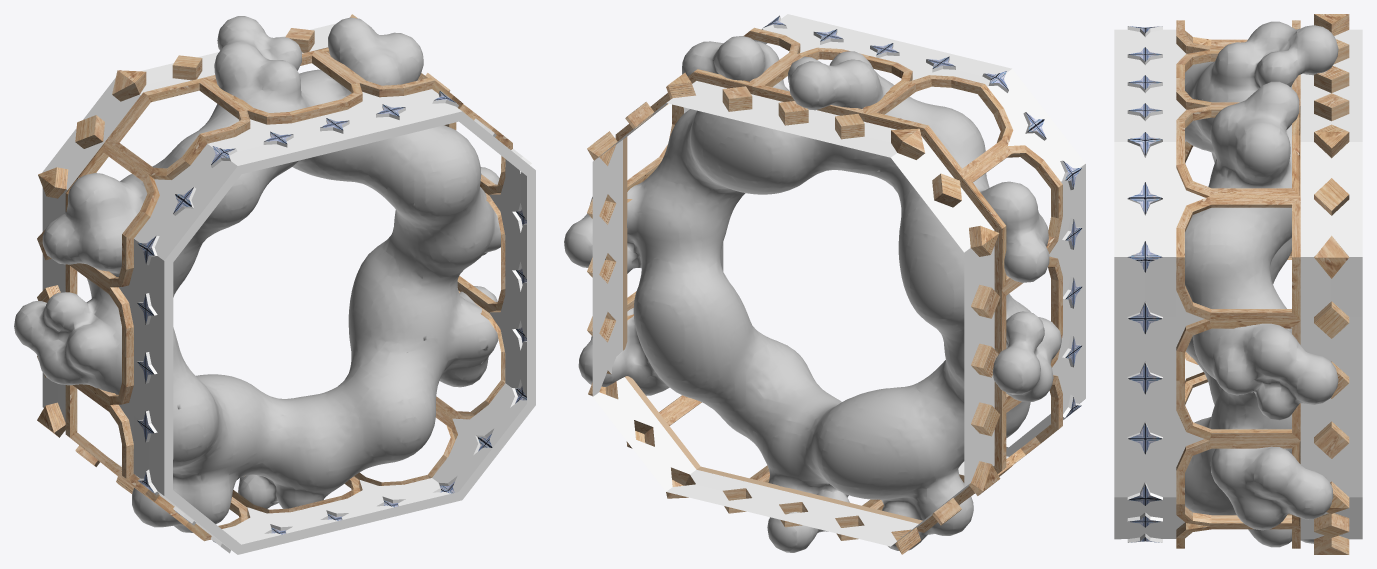
The model's file is module 4.obj.
3 renders of one model, left to right at view 1: azimuth 30°, elevation 25°; view 2: azimuth 150°, elevation 25°; view 3: azimuth 270°, elevation 25°, orthographic. The views are drawn at different scales.
Visible parts, largest first — view 1: module_4; view 2: module_4; view 3: module_4.
Part boxes in pixels (<box>): module_4: <box>14,14,535,554</box>; module_4: <box>564,14,1085,554</box>; module_4: <box>1114,14,1362,554</box>.
Size of the model in its own units: 0.1898 by 0.1898 by 0.0849.
